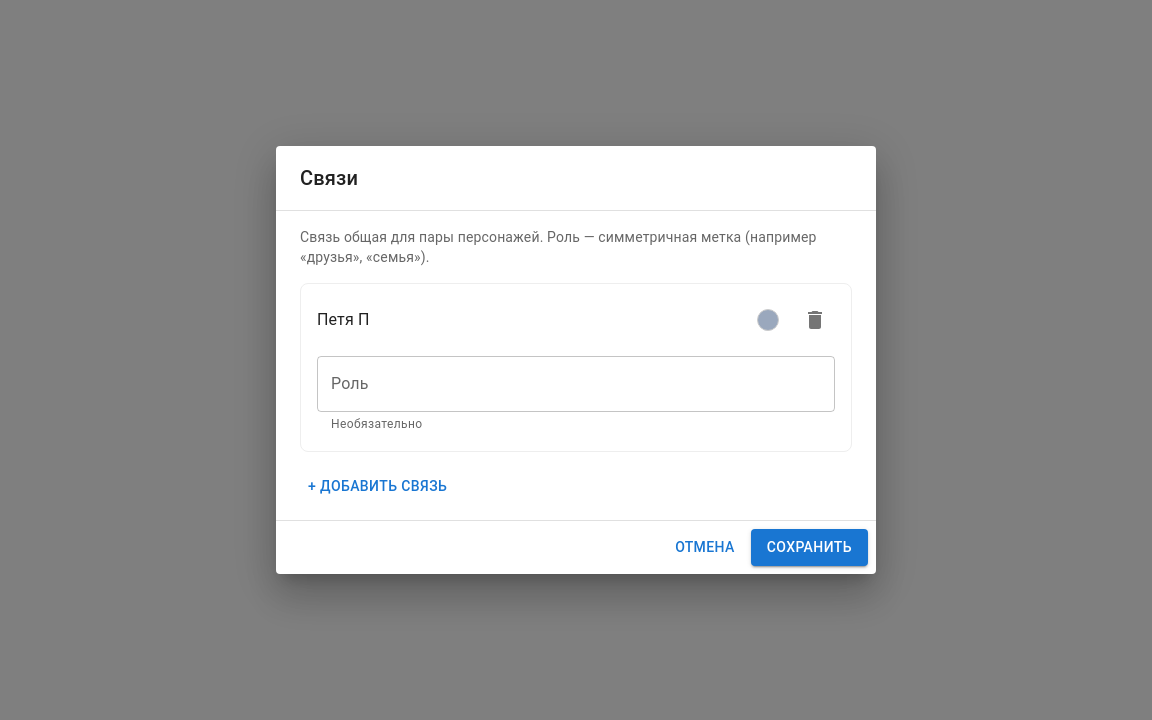
Test: hides already-connected characters from the add menu
Click the button "+ Добавить связь": (378, 486) [300,468,455,504]
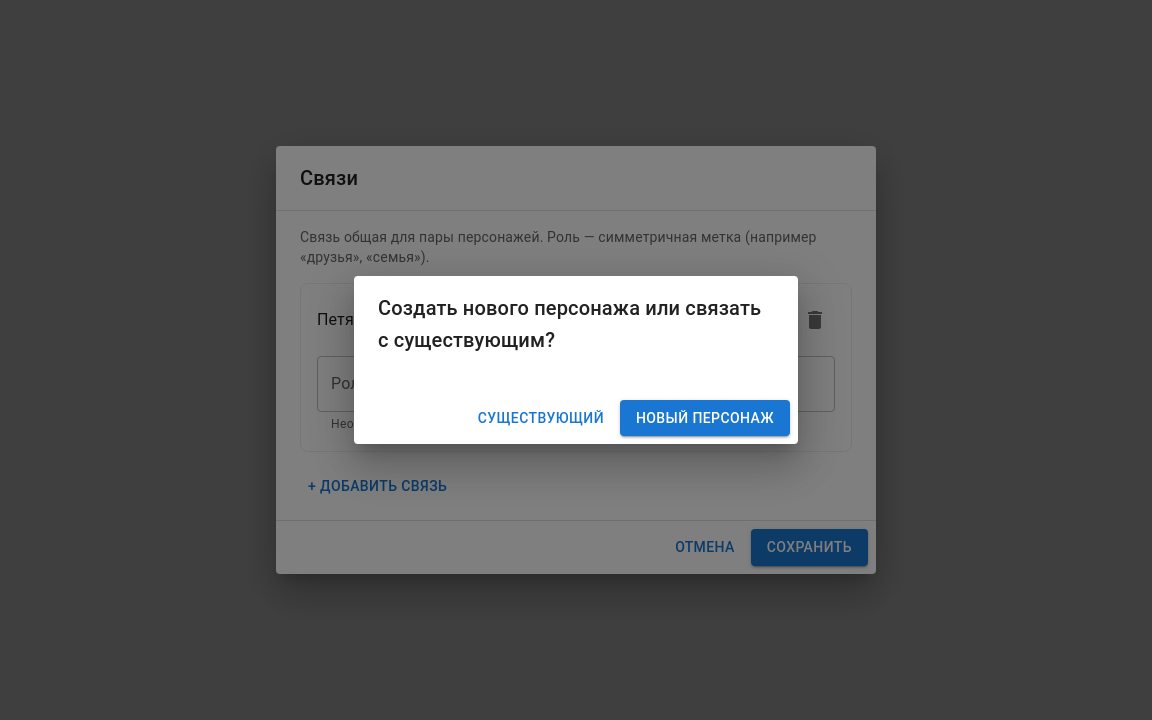
Click the button "Существующий": (541, 418) [470,400,612,436]
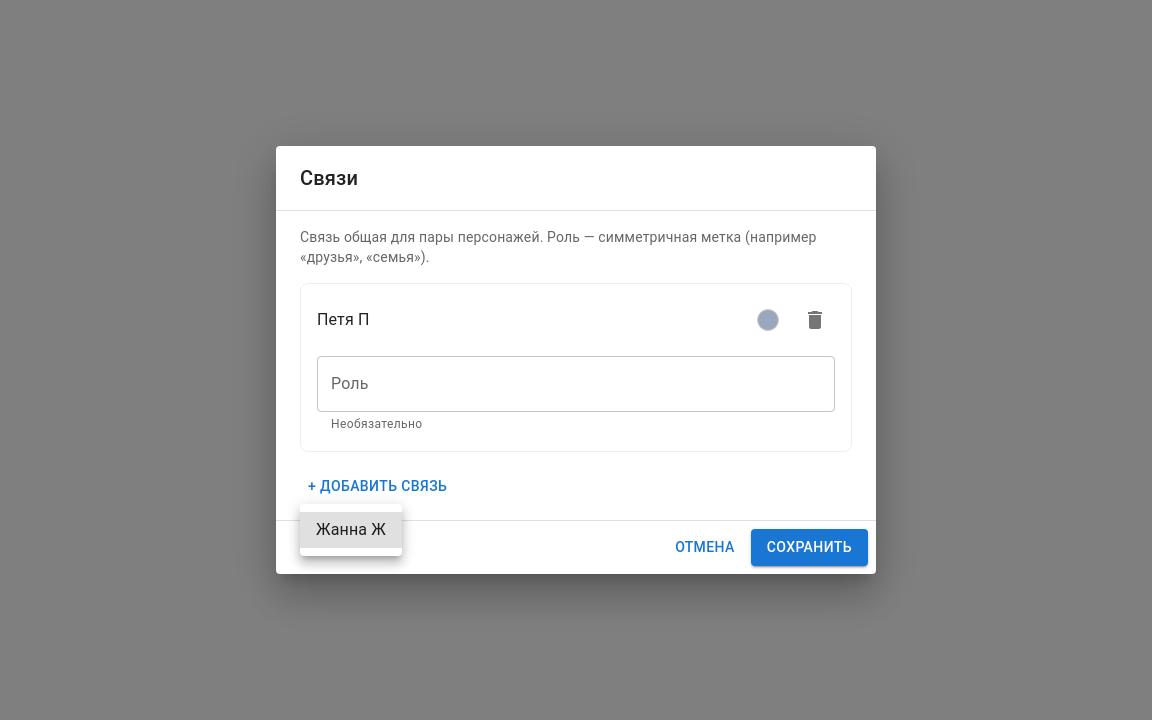
Expected: the menu item "Жанна Ж" is shown, [300,512,402,548]
